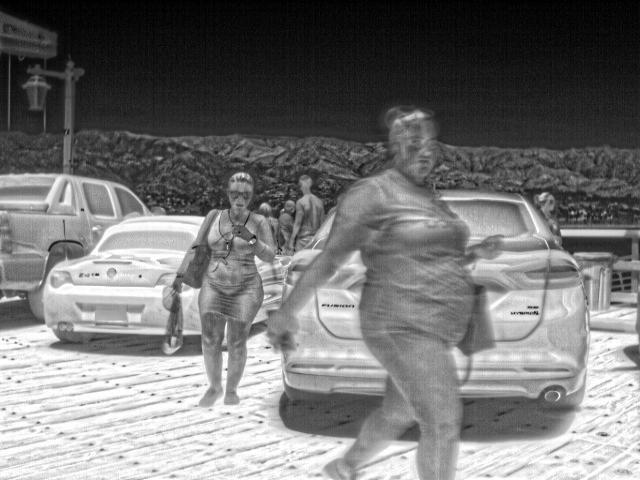car: (437, 188, 586, 404), (1, 170, 167, 318), (43, 213, 204, 347), (282, 248, 384, 399)
person: (268, 103, 505, 477), (172, 170, 280, 406), (289, 175, 326, 253), (534, 190, 567, 248), (275, 198, 297, 244), (255, 202, 279, 236)
